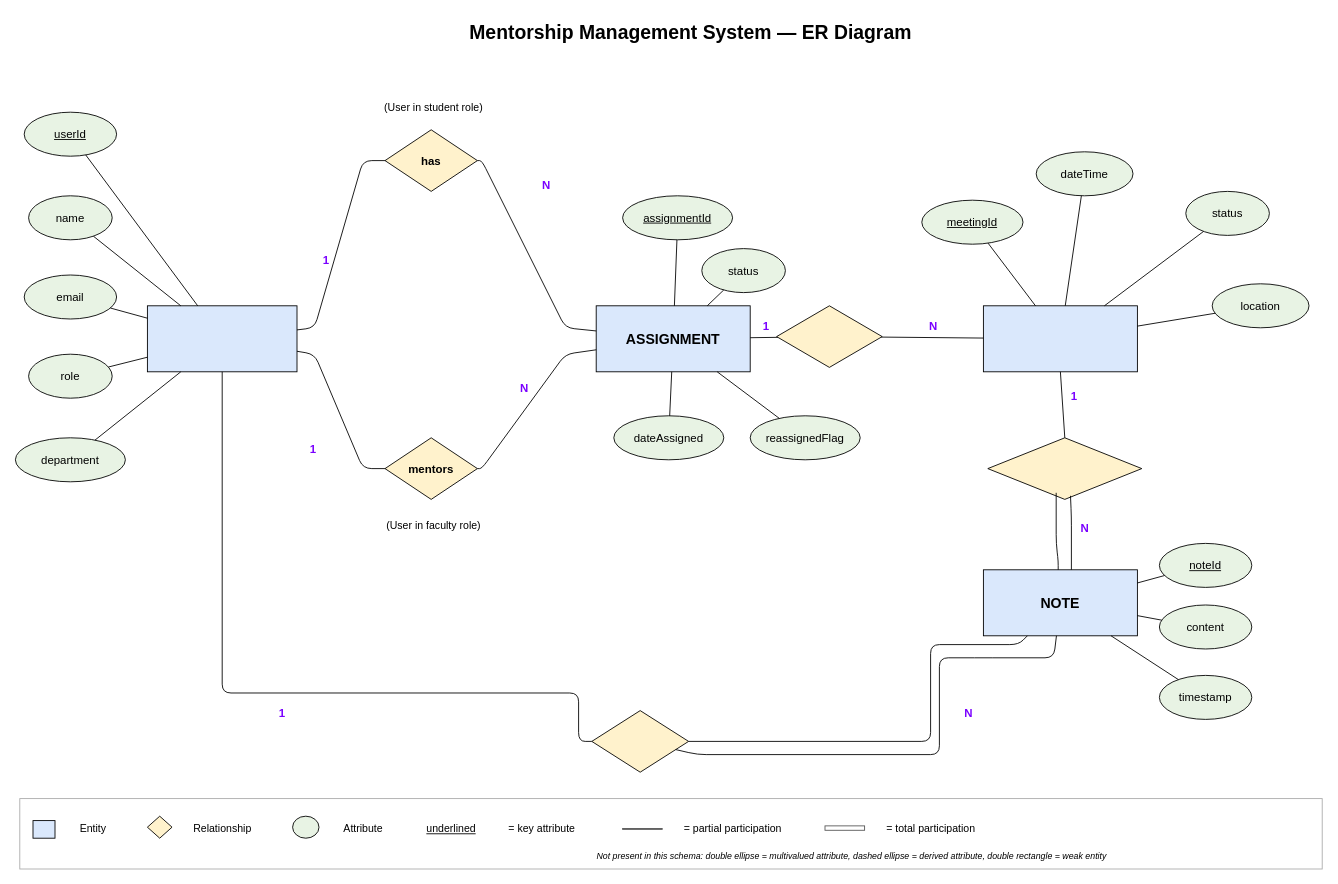
The diagram is 1338 pixels wide and 884 high, and some of its shapes have lost their labels. Here are the shapes that lost their labels. From the top down, the centre of each, then its label:
(x=222, y=338): USER
(x=829, y=336): generates
(x=1060, y=338): MEETING
(x=1064, y=468): documented by
(x=640, y=741): writes
